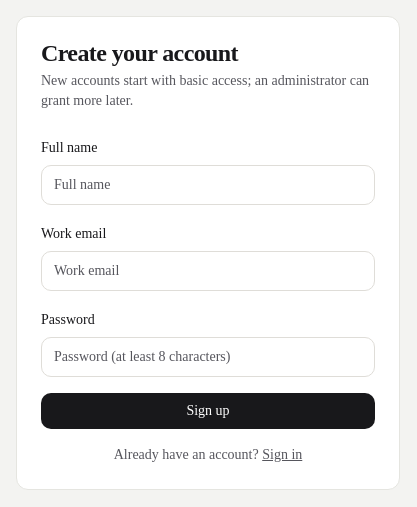
Test: does not offer account creation again after signup succeeds and auto-login fails
Type "Fixture" into the field with placeholder "Full name".
click(208, 185); type("Fixture")  # box [41,165,375,205]
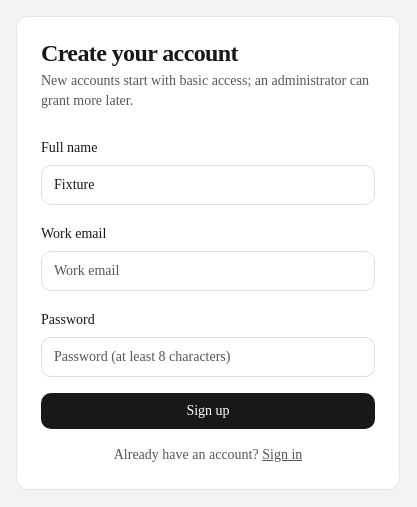
Type "fixture@example.invalid" into the field with placeholder "Work email".
click(208, 271); type("fixture@example.invalid")  # box [41,251,375,291]
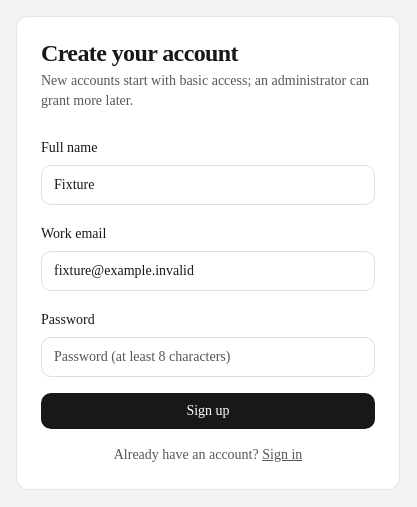
Type "fixture-password" into the password field with placeholder "Password (at least 8 characters)".
click(208, 357); type("fixture-password")  # box [41,337,375,377]
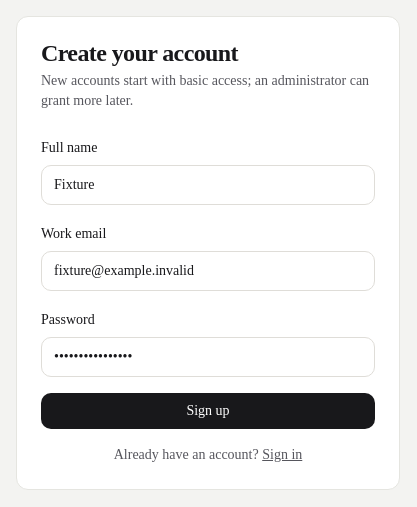
Submit the form "Sign up", box [41,135,375,429]
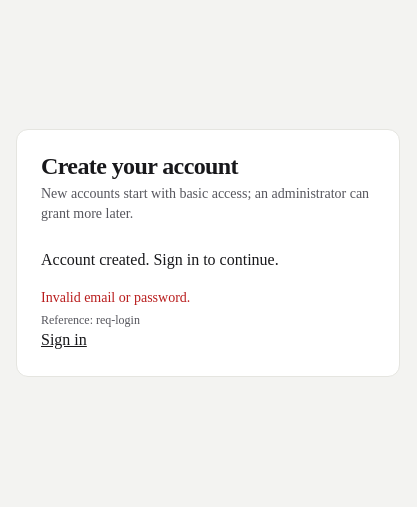
Now the text "Account created. Sign in to continue." is shown, box [41,251,279,268]
Now the message "Invalid email or password." is shown, box [41,290,190,305]
Now the text "Reference: req-login" is shown, box [41,313,140,327]
